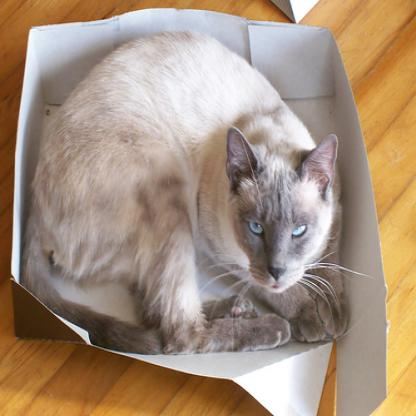cat: (21, 30, 349, 356)
